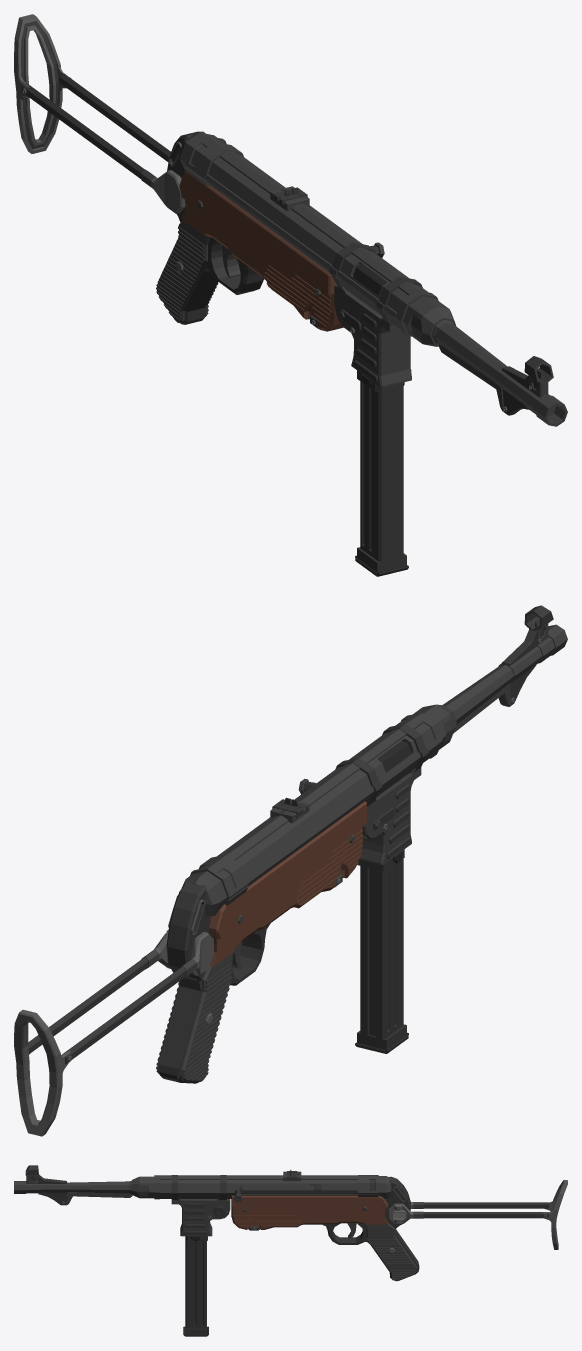
The model's file is WWII_SMG_0418.fbx.
3 renders of one model, top to bottom at view 1: azimuth 30°, elevation 25°; view 2: azimuth 150°, elevation 25°; view 3: azimuth 270°, elevation 25°, orthographic. The views are drawn at different scales.
Visible parts, largest first — view 1: WWII_SMG_A_Barrel, WWII_SMG_A_Receiver, WWII_SMG_A_Mag, WWII_SMG_A_Stock; view 2: WWII_SMG_A_Barrel, WWII_SMG_A_Receiver, WWII_SMG_A_Mag, WWII_SMG_A_Stock, WWII_SMG_A_Sight; view 3: WWII_SMG_A_Barrel, WWII_SMG_A_Receiver, WWII_SMG_A_Stock, WWII_SMG_A_Mag.
Boxes of the visible parts, bbox=[...] form: WWII_SMG_A_Barrel: bbox=[178, 132, 567, 426]; WWII_SMG_A_Receiver: bbox=[156, 131, 343, 331]; WWII_SMG_A_Mag: bbox=[355, 370, 408, 576]; WWII_SMG_A_Stock: bbox=[14, 14, 185, 213]; WWII_SMG_A_Barrel: bbox=[182, 605, 567, 916]; WWII_SMG_A_Receiver: bbox=[156, 801, 366, 1083]; WWII_SMG_A_Mag: bbox=[355, 849, 408, 1053]; WWII_SMG_A_Stock: bbox=[14, 930, 213, 1136]; WWII_SMG_A_Sight: bbox=[270, 797, 309, 823]; WWII_SMG_A_Barrel: bbox=[14, 1165, 392, 1236]; WWII_SMG_A_Receiver: bbox=[231, 1176, 419, 1281]; WWII_SMG_A_Stock: bbox=[388, 1180, 567, 1249]; WWII_SMG_A_Mag: bbox=[183, 1236, 208, 1336].
Bounding box in the file's own units: 3.91 × 18.93 × 56.78.
